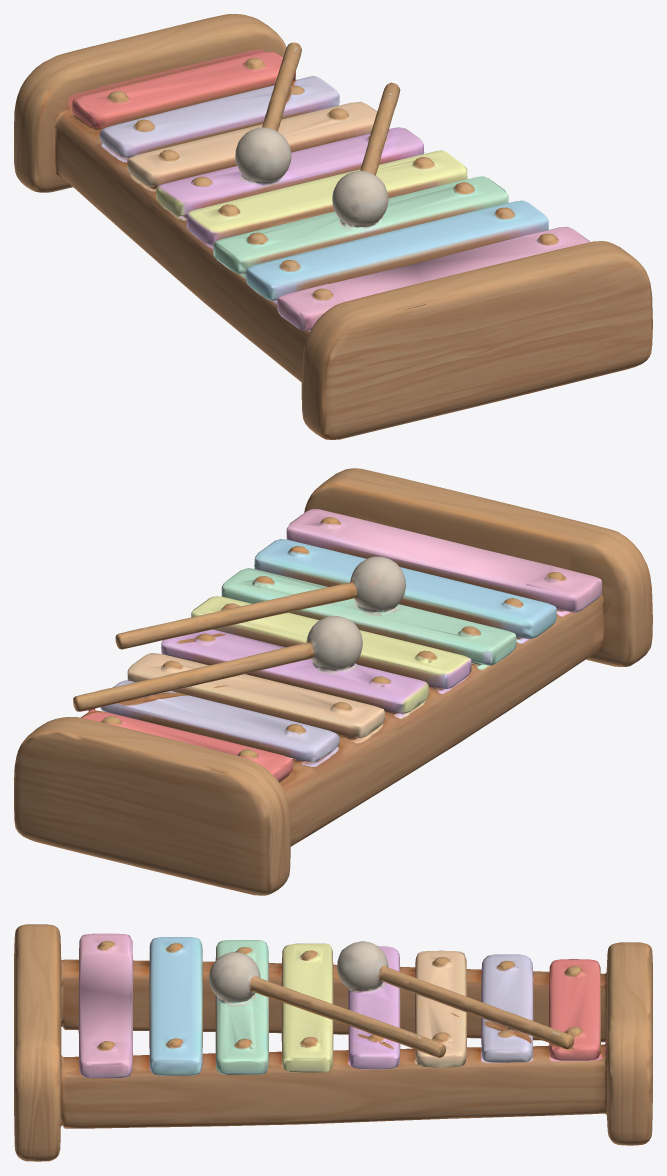
3 renders of one model, top to bottom at view 1: azimuth 30°, elevation 25°; view 2: azimuth 150°, elevation 25°; view 3: azimuth 270°, elevation 25°, orthographic. The views are drawn at different scales.
Parts seen in each view (by area): view 1: repaired; view 2: repaired; view 3: repaired.
Part boxes in pixels (x1,y1,x2,y2): repaired: [14, 14, 652, 439]; repaired: [14, 468, 652, 895]; repaired: [14, 924, 652, 1161].
Size of the model in its own units: 0.5503 by 0.2389 by 0.9995.
Materials: 1 (1 with a texture image).
